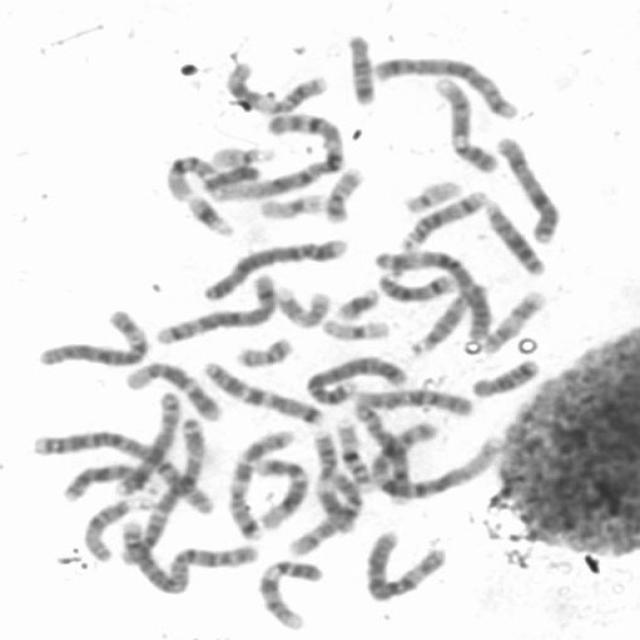A1: (357, 399, 502, 502), (199, 107, 348, 203)
A2: (24, 424, 218, 517), (116, 514, 260, 596)
A3: (116, 411, 210, 568), (370, 243, 492, 345)
B4: (194, 231, 350, 304), (302, 349, 411, 406)
B5: (367, 50, 522, 121), (152, 268, 280, 348)
C10: (283, 469, 366, 558), (348, 381, 479, 419)
C11: (220, 56, 332, 115), (307, 424, 361, 534)
C12: (118, 355, 225, 422), (249, 452, 311, 530)
C6: (30, 304, 152, 369), (360, 524, 450, 604)
C7: (219, 422, 298, 541), (198, 355, 327, 426)
C8: (110, 388, 183, 496), (353, 393, 420, 503)
C9: (427, 68, 502, 174), (253, 554, 327, 632)
D13: (477, 193, 549, 277), (56, 458, 164, 503)
D14: (394, 184, 488, 252), (372, 265, 460, 303)
D15: (406, 281, 492, 356), (80, 491, 153, 563)
E16: (328, 412, 375, 490), (162, 149, 219, 202)
E17: (478, 285, 548, 355), (271, 280, 333, 328)
E18: (467, 353, 542, 399), (340, 28, 380, 108)
F19: (254, 186, 330, 222), (316, 311, 393, 342)
F20: (319, 161, 367, 224), (230, 331, 296, 369)
G21: (180, 187, 238, 238), (329, 282, 382, 321)
G22: (397, 173, 463, 214), (205, 139, 278, 170)
X: (491, 130, 562, 246)
Y: (205, 160, 263, 190)
